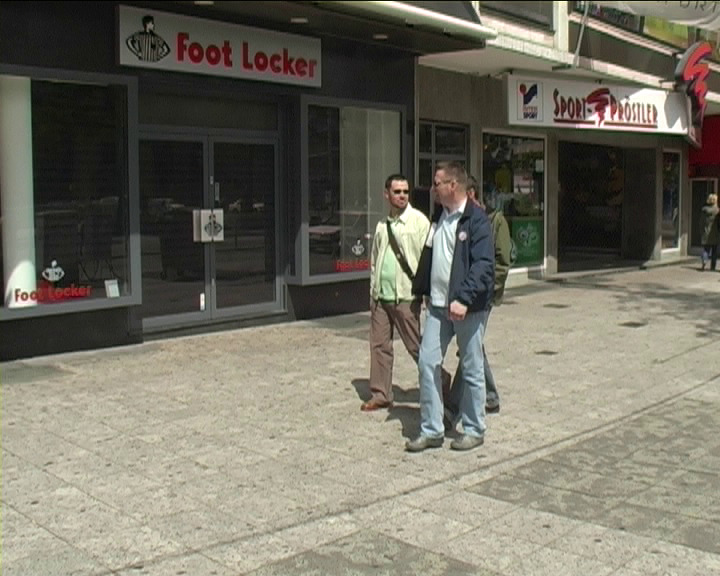deflection: (420, 154, 496, 256), (372, 174, 422, 257)
